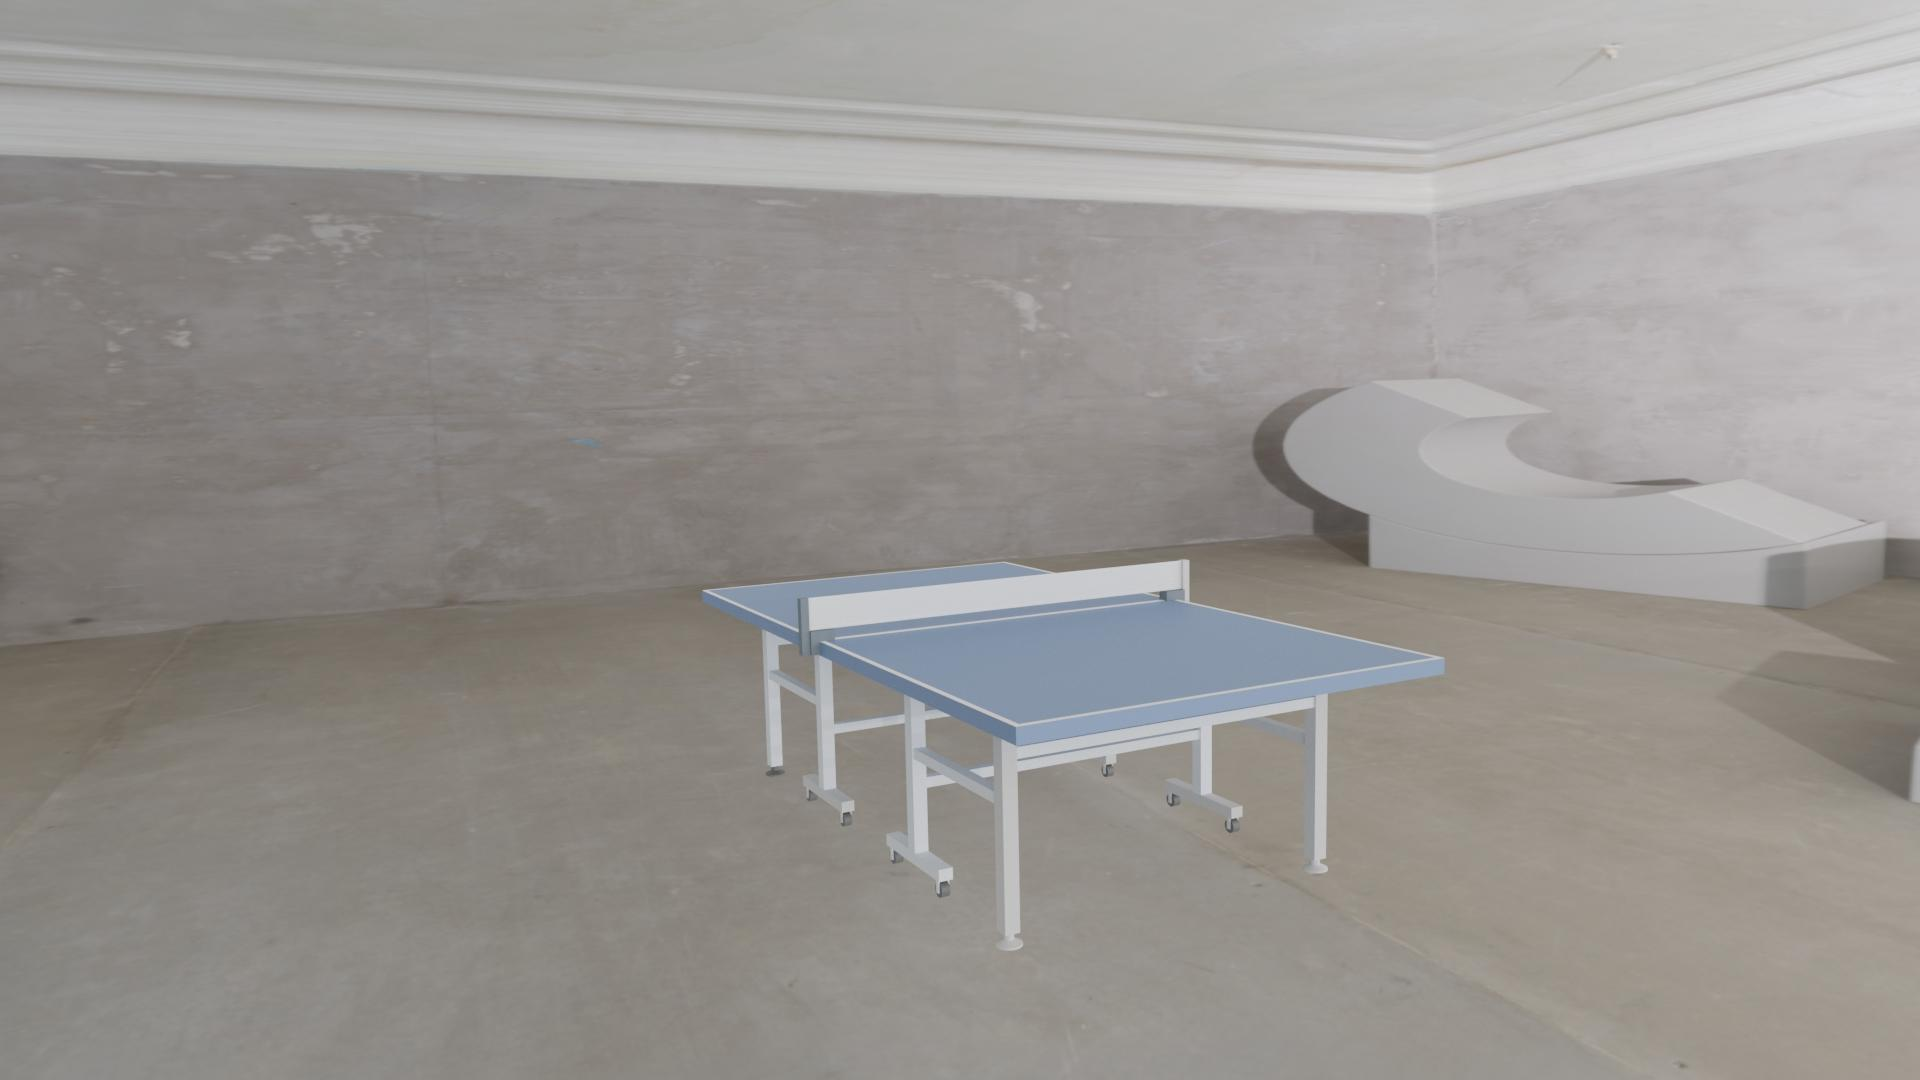table: (708, 563, 1435, 724)
